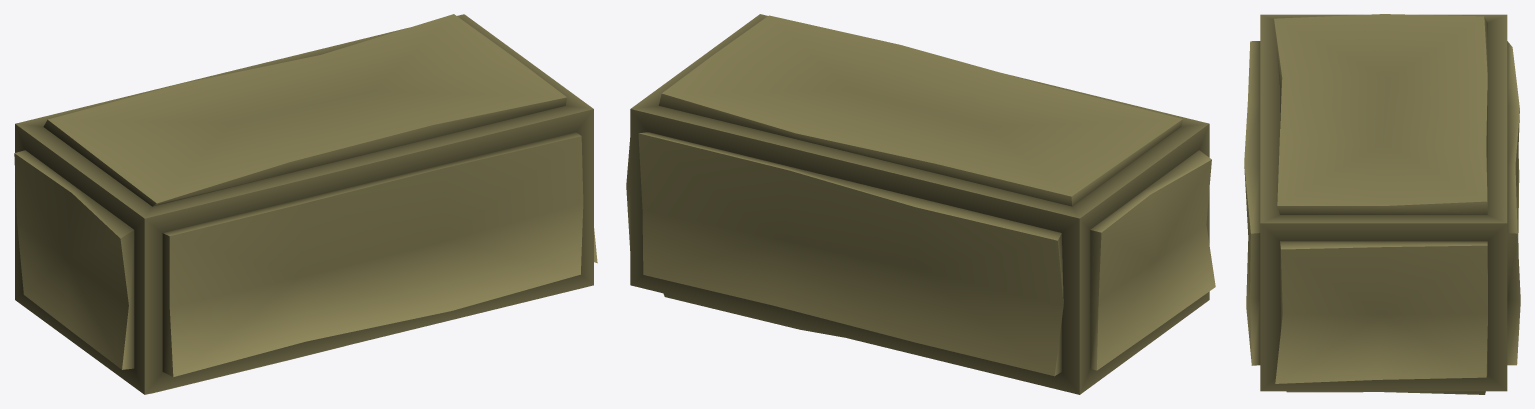
3 renders of one model, left to right at view 1: azimuth 30°, elevation 25°; view 2: azimuth 150°, elevation 25°; view 3: azimuth 270°, elevation 25°, orthographic. The views are drawn at different scales.
Parts seen in each view (by area): view 1: Cube; view 2: Cube; view 3: Cube.
Boxes of the visible parts, x1,y1,x2,y2 form: Cube: (14, 14, 597, 394); Cube: (626, 14, 1215, 394); Cube: (1244, 14, 1520, 394).
Bounding box in the file's own units: 426 × 174 × 224.
